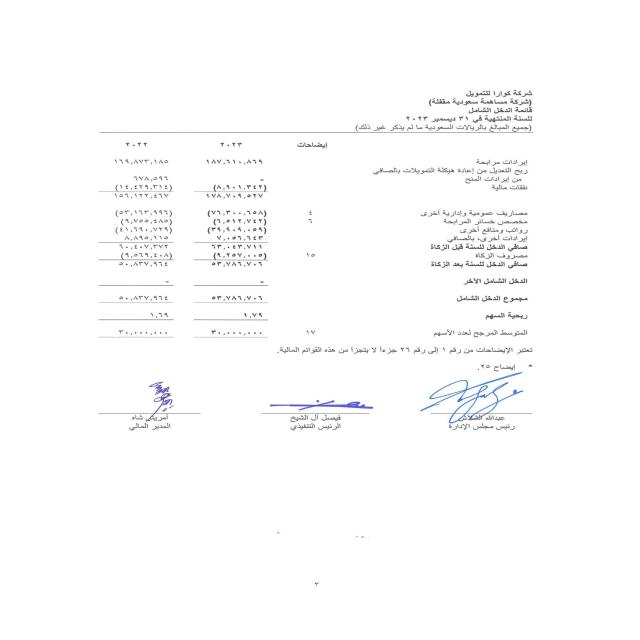financial_sheets: (464, 106, 533, 114)
table: (80, 138, 348, 342)
